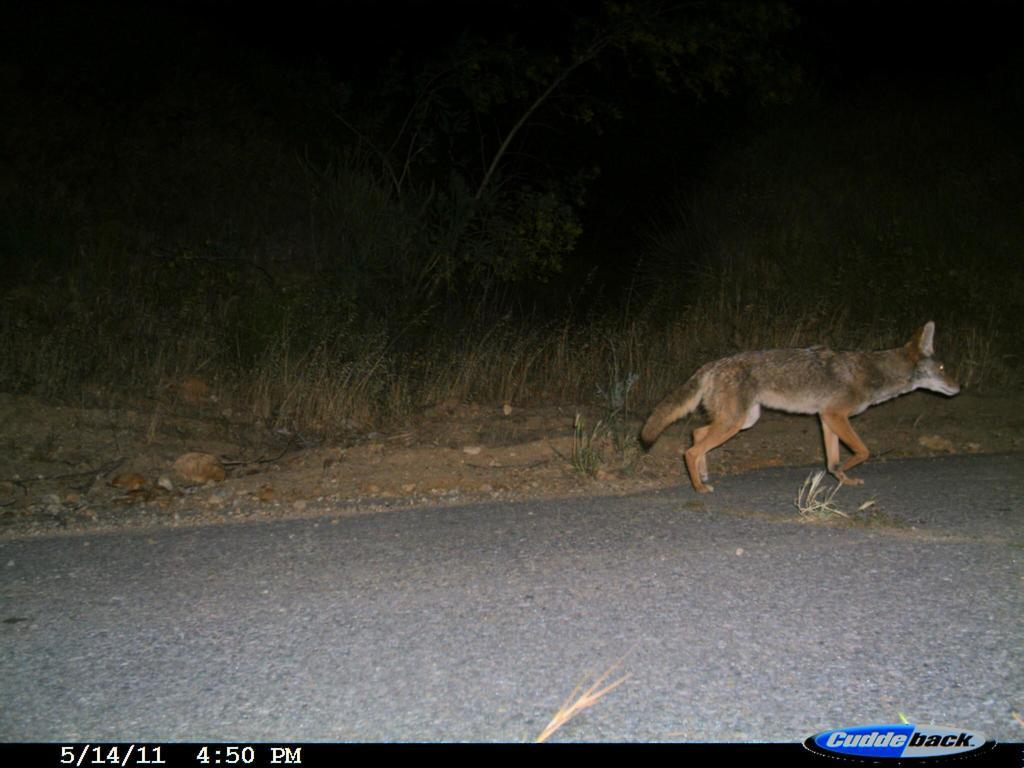coyote: (638, 322, 967, 498)
